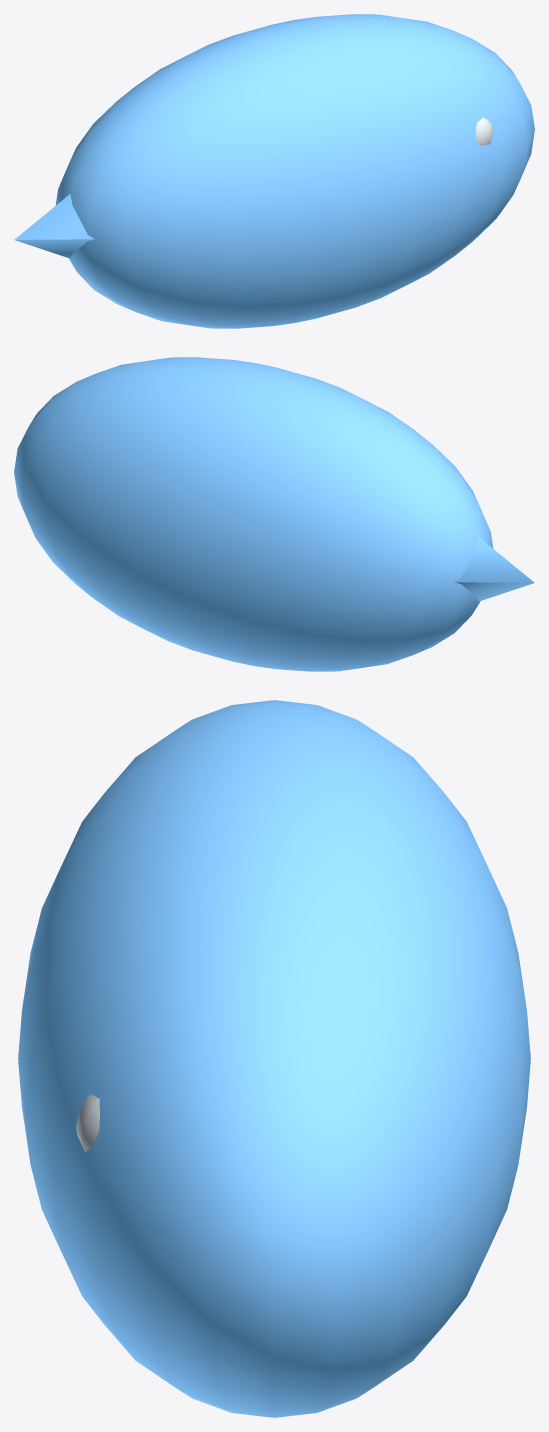
File: neutral-fish.glb
The picture shows the model from 3 angles, top to bottom: view 1: azimuth 30°, elevation 25°; view 2: azimuth 150°, elevation 25°; view 3: azimuth 270°, elevation 25°; orthographic projection. The views are drawn at different scales.
Parts seen in each view (by area): view 1: body, tail, eye; view 2: body, tail; view 3: body, eye.
Part boxes in pixels (x1,y1,x2,y2): body: [55, 14, 534, 328]; tail: [14, 194, 94, 258]; eye: [475, 117, 492, 145]; body: [14, 357, 493, 671]; tail: [454, 537, 534, 601]; body: [18, 700, 530, 1417]; eye: [76, 1094, 99, 1152].
Bounding box in the file's own units: 2.09 × 1.09 × 0.9072.
